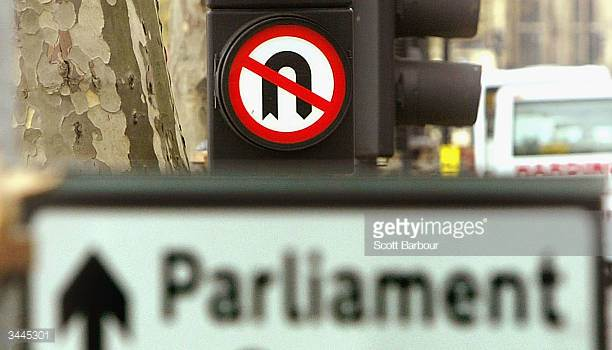No_u_turn: (224, 23, 348, 145)
